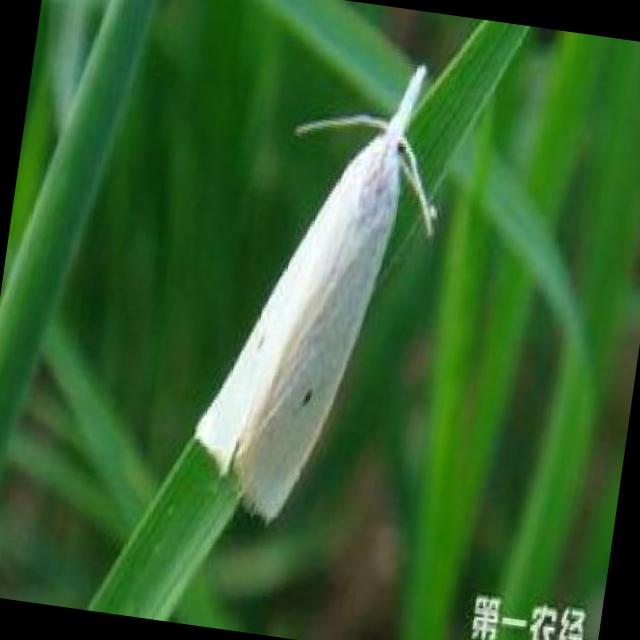stem-borer: (188, 57, 434, 536)
